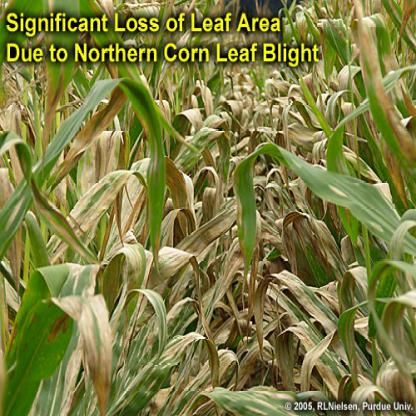corn leaf blight: (1, 73, 179, 265), (226, 137, 415, 304), (1, 292, 118, 413), (253, 271, 358, 378), (349, 2, 415, 171), (36, 167, 146, 266), (103, 332, 228, 415), (276, 319, 359, 405), (143, 242, 215, 341), (71, 128, 131, 218), (162, 199, 236, 263)
